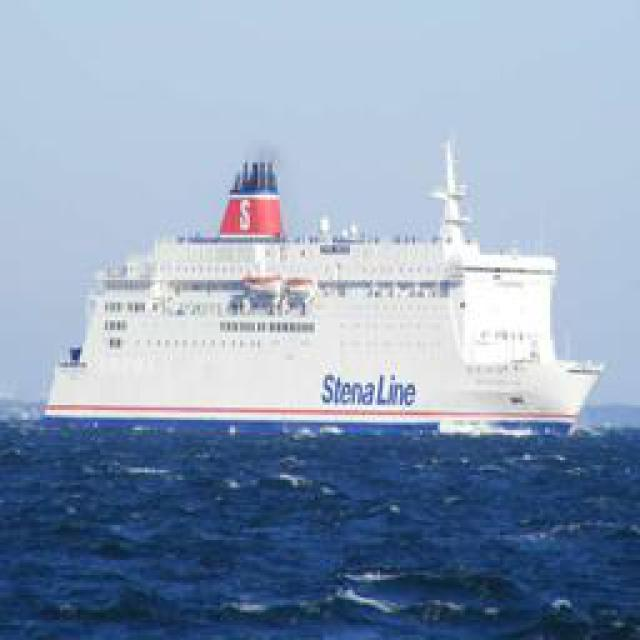Ship: (20, 139, 630, 524)
